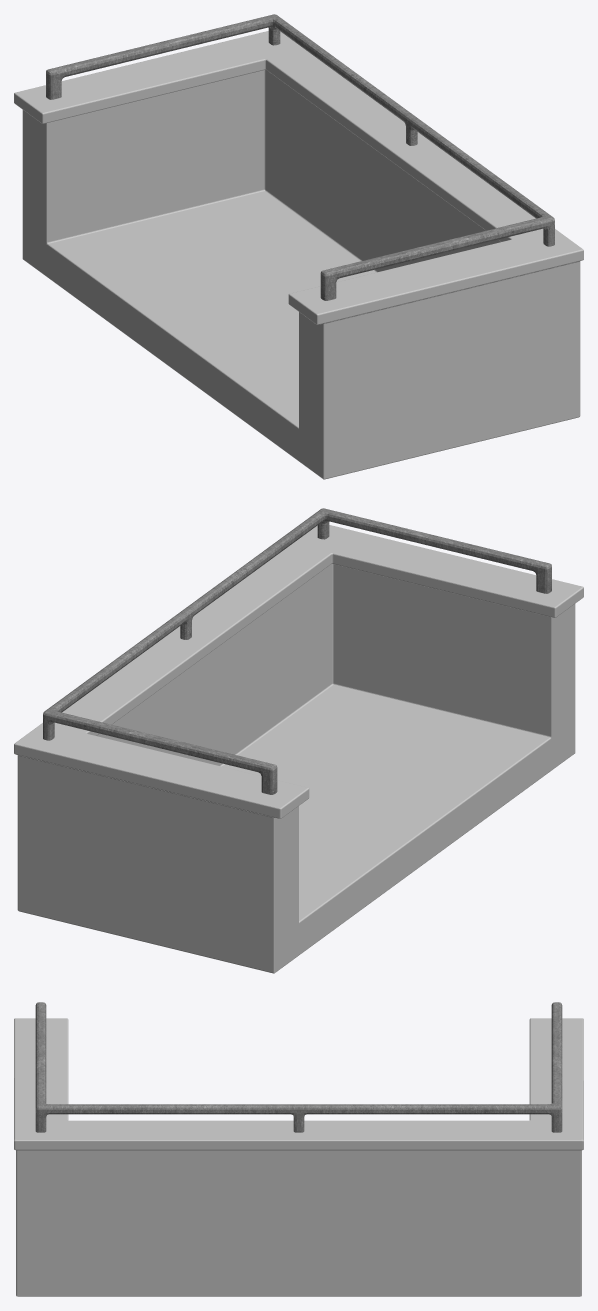
File: Balcony.fbx
3 views of the same model, one above another, from view 1: azimuth 30°, elevation 25°; view 2: azimuth 150°, elevation 25°; view 3: azimuth 270°, elevation 25° (orthographic). The views are drawn at different scales.
Parts seen in each view (by area): view 1: Balcony.001, Balcony Railing; view 2: Balcony.001, Balcony Railing; view 3: Balcony.001, Balcony Railing.
Part boxes in pixels (x1,y1,x2,y2): Balcony.001: (14,31,583,479); Balcony Railing: (46,14,554,300); Balcony.001: (14,525,583,973); Balcony Railing: (43,508,551,794); Balcony.001: (14,1018,583,1296); Balcony Railing: (35,1002,562,1132).
Bounding box in the file's own units: 245 × 171 × 481.
